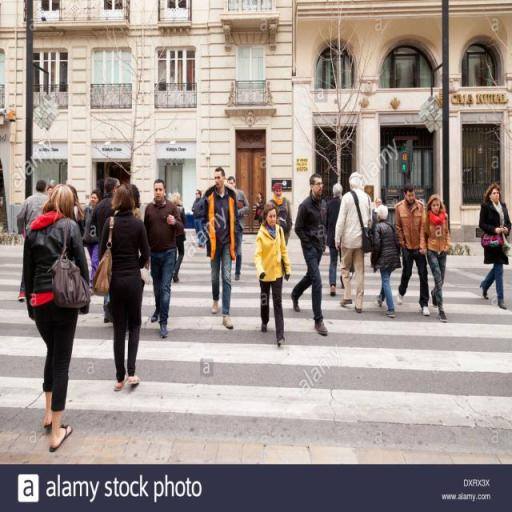person: (23, 187, 92, 448), (102, 187, 148, 391), (291, 175, 338, 335), (145, 178, 183, 340), (205, 168, 239, 334), (394, 191, 434, 320), (337, 173, 373, 316), (257, 202, 288, 353), (476, 183, 509, 313), (98, 180, 126, 325), (424, 194, 455, 323), (371, 207, 402, 320), (331, 185, 352, 298), (229, 175, 251, 281), (84, 191, 102, 292), (173, 195, 189, 282), (273, 184, 294, 248), (192, 191, 208, 249), (256, 192, 267, 232)
